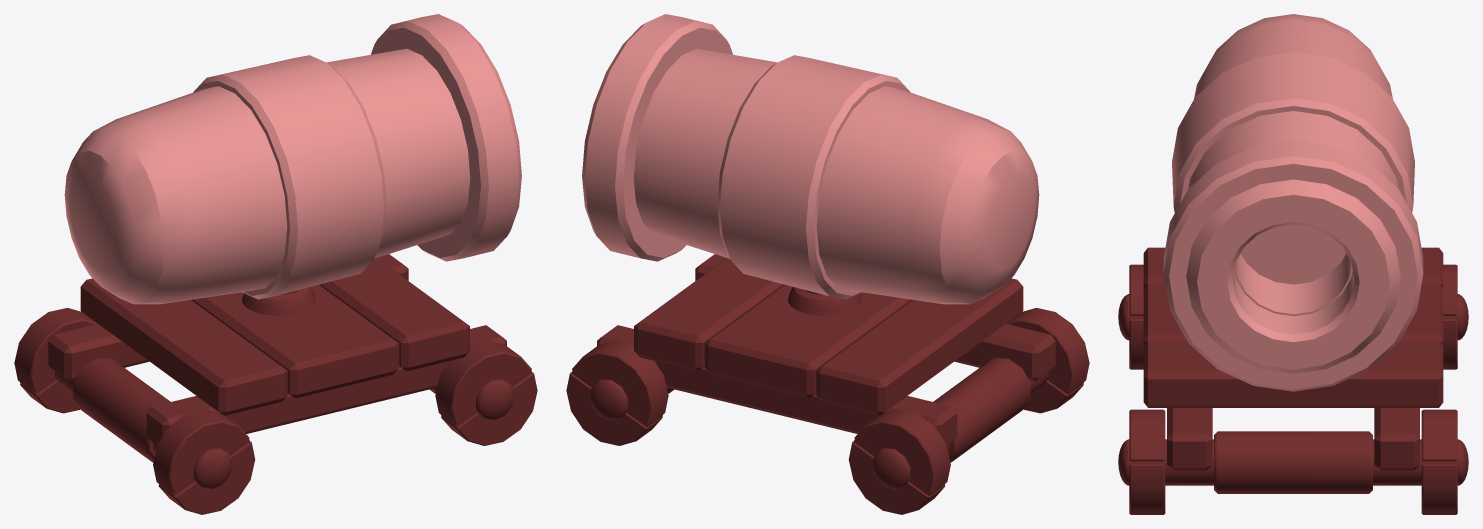
File: canon-m.fbx
3 renders of one model, left to right at view 1: azimuth 30°, elevation 25°; view 2: azimuth 150°, elevation 25°; view 3: azimuth 270°, elevation 25°, orthographic. The views are drawn at different scales.
Parts seen in each view (by area): view 1: canon2, canon1; view 2: canon2, canon1; view 3: canon2, canon1.
Boxes of the visible parts, left/top/right/bottom form: canon2: left=64, top=14, right=521, bottom=304; canon1: left=14, top=254, right=537, bottom=514; canon2: left=582, top=14, right=1039, bottom=304; canon1: left=566, top=254, right=1089, bottom=514; canon2: left=1163, top=14, right=1423, bottom=391; canon1: left=1118, top=247, right=1468, bottom=514.
Size of the model in its own units: 17.4 by 15.45 by 13.1.
